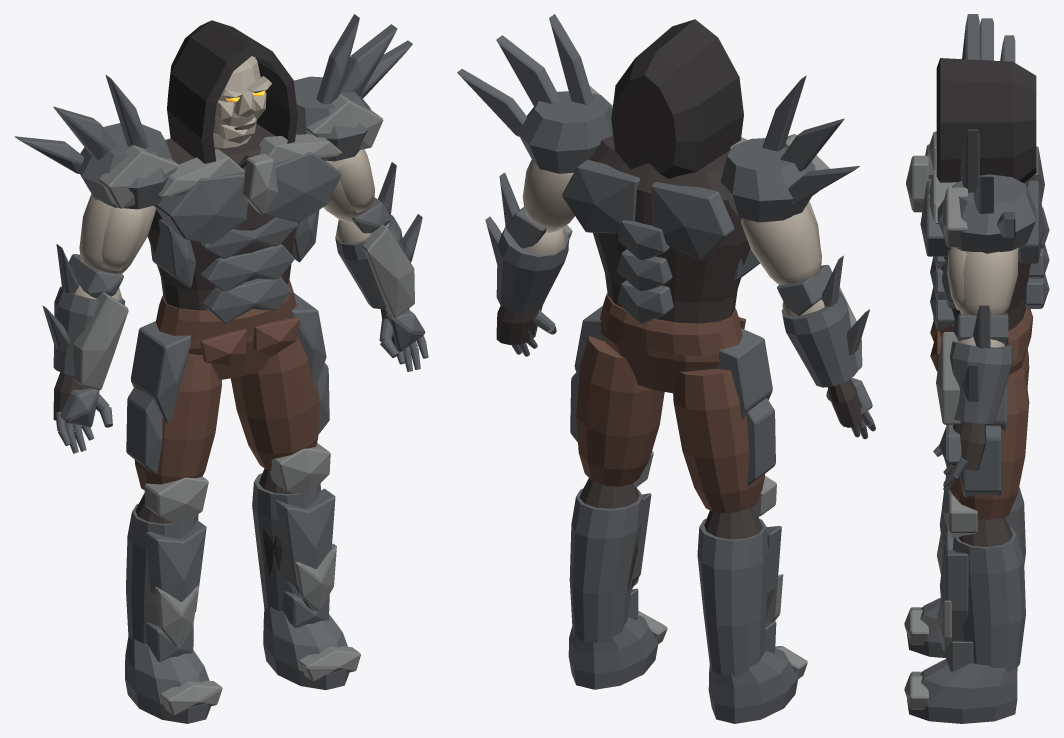
File: hound-blockout.gltf
3 renders of one model, left to right at view 1: azimuth 30°, elevation 25°; view 2: azimuth 150°, elevation 25°; view 3: azimuth 270°, elevation 25°, orthographic. The views are drawn at different scales.
Visible parts, largest first — view 1: H01_Hood_shell, H01_Thigh_cloth_L, H01_Thigh_cloth_R, H01_Torso_underlayer, H01_Breastplate_R, H01_Boot_R, H01_Boot_L, H01_Greave_front_L, H01_Hip_guard_R, H01_Greave_mass_R, H01_Breastplate_L, H01_Greave_front_R (+50 smaller); view 2: H01_Hood_shell, H01_Torso_underlayer, H01_Thigh_cloth_L, H01_Thigh_cloth_R, H01_Greave_mass_R, H01_Greave_mass_L, H01_Pauldron_L, H01_Pauldron_R, H01_Scapula_L, H01_Boot_R, H01_Waist_sash, H01_Boot_L (+26 smaller); view 3: H01_Hood_shell, H01_Greave_mass_L, H01_Boot_L, H01_Pauldron_L, H01_Thigh_cloth_L, H01_Bracer_mass_L, H01_Upper_arm_L, H01_Greave_front_L, H01_Thigh_outer_plate_L, H01_Bracer_face_L, H01_Pauldron_front_L, H01_Palm_L (+35 smaller).
Boxes of the visible parts, left/top/right/bottom form: H01_Hood_shell: left=167, top=20, right=290, bottom=166; H01_Thigh_cloth_L: left=230, top=335, right=318, bottom=470; H01_Thigh_cloth_R: left=134, top=354, right=221, bottom=490; H01_Torso_underlayer: left=147, top=123, right=297, bottom=310; H01_Breastplate_R: left=154, top=169, right=248, bottom=243; H01_Boot_R: left=125, top=636, right=210, bottom=723; H01_Boot_L: left=263, top=606, right=348, bottom=689; H01_Greave_front_L: left=275, top=488, right=335, bottom=610; H01_Hip_guard_R: left=130, top=321, right=190, bottom=423; H01_Greave_mass_R: left=126, top=503, right=198, bottom=643; H01_Breastplate_L: left=265, top=152, right=341, bottom=222; H01_Greave_front_R: left=146, top=520, right=206, bottom=643; H01_Hood_shell: left=611, top=19, right=743, bottom=178; H01_Torso_underlayer: left=589, top=134, right=750, bottom=323; H01_Thigh_cloth_L: left=576, top=336, right=664, bottom=486; H01_Thigh_cloth_R: left=673, top=368, right=764, bottom=513; H01_Greave_mass_R: left=697, top=518, right=768, bottom=676; H01_Greave_mass_L: left=569, top=488, right=643, bottom=642; H01_Pauldron_L: left=517, top=91, right=612, bottom=173; H01_Pauldron_R: left=720, top=138, right=815, bottom=222; H01_Scapula_L: left=651, top=182, right=734, bottom=259; H01_Boot_R: left=708, top=648, right=798, bottom=723; H01_Waist_sash: left=600, top=293, right=742, bottom=355; H01_Boot_L: left=568, top=615, right=658, bottom=689; H01_Hood_shell: left=940, top=58, right=1036, bottom=182; H01_Greave_mass_L: left=953, top=527, right=1025, bottom=672; H01_Boot_L: left=907, top=659, right=1017, bottom=723; H01_Pauldron_L: left=937, top=174, right=1035, bottom=253; H01_Thigh_cloth_L: left=946, top=368, right=1029, bottom=519; H01_Bracer_mass_L: left=950, top=341, right=1013, bottom=423; H01_Upper_arm_L: left=960, top=247, right=1018, bottom=316; H01_Greave_front_L: left=940, top=531, right=968, bottom=641; H01_Thigh_outer_plate_L: left=960, top=425, right=1000, bottom=497; H01_Bracer_face_L: left=936, top=332, right=960, bottom=424; H01_Pauldron_front_L: left=941, top=187, right=967, bottom=247; H01_Palm_L: left=950, top=421, right=986, bottom=470.
Bounding box in the file's own units: 1.14 × 1.8 × 0.3821.
